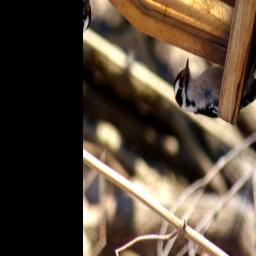Woodpecker: (169, 0, 256, 157)
